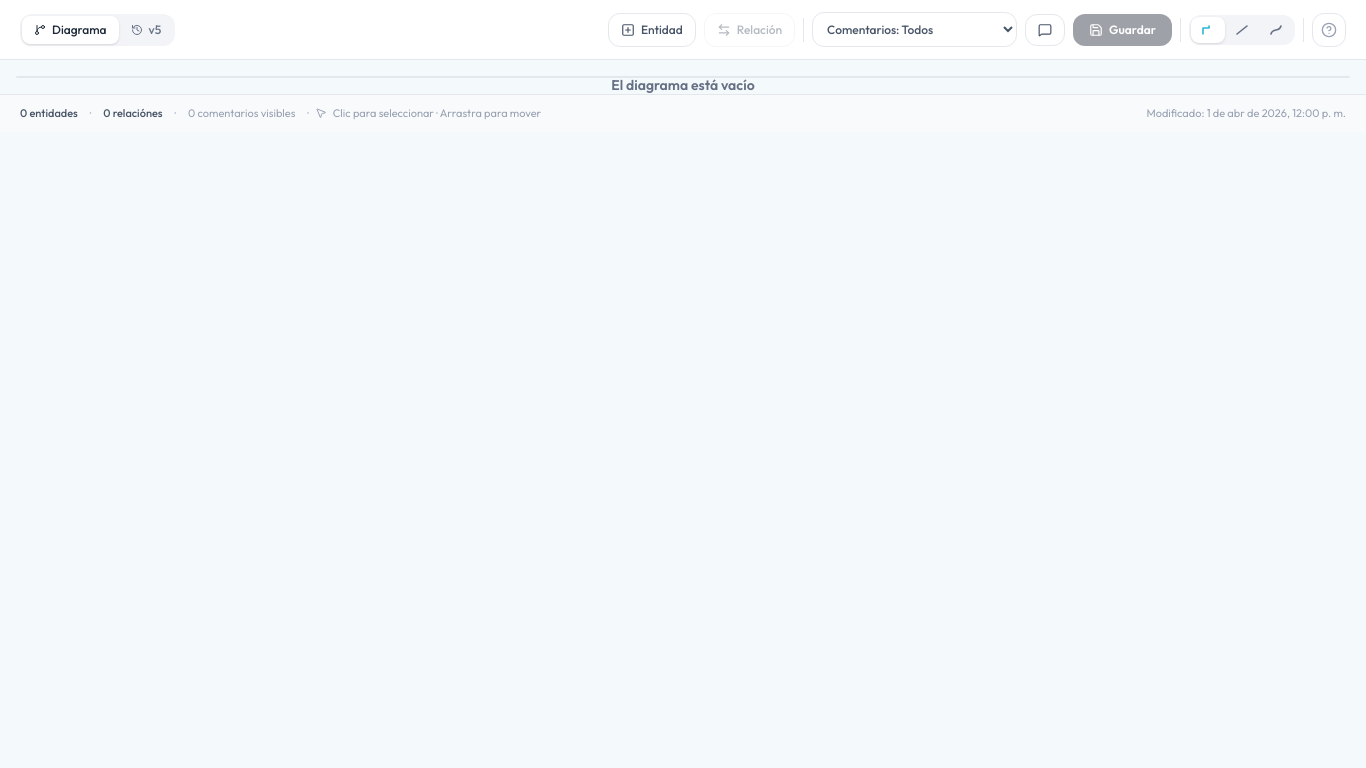
Test: Conceptual editor flow › shows feedback modal when preview endpoint returns 404
Click the button "v5". click: (146, 30)
box: x1=118 y1=16 x2=173 y2=44
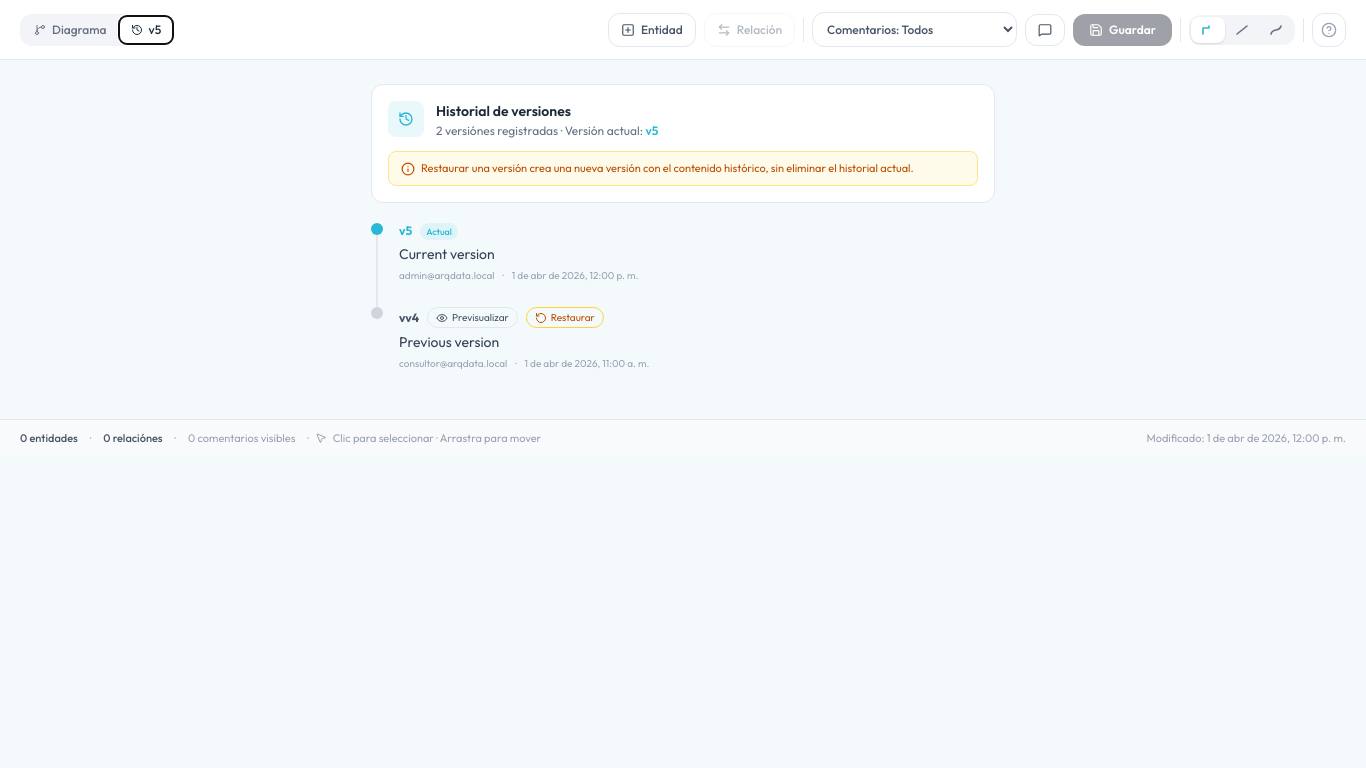
Click the button "Previsualizar". click: (472, 318)
box: x1=427 y1=307 x2=518 y2=328
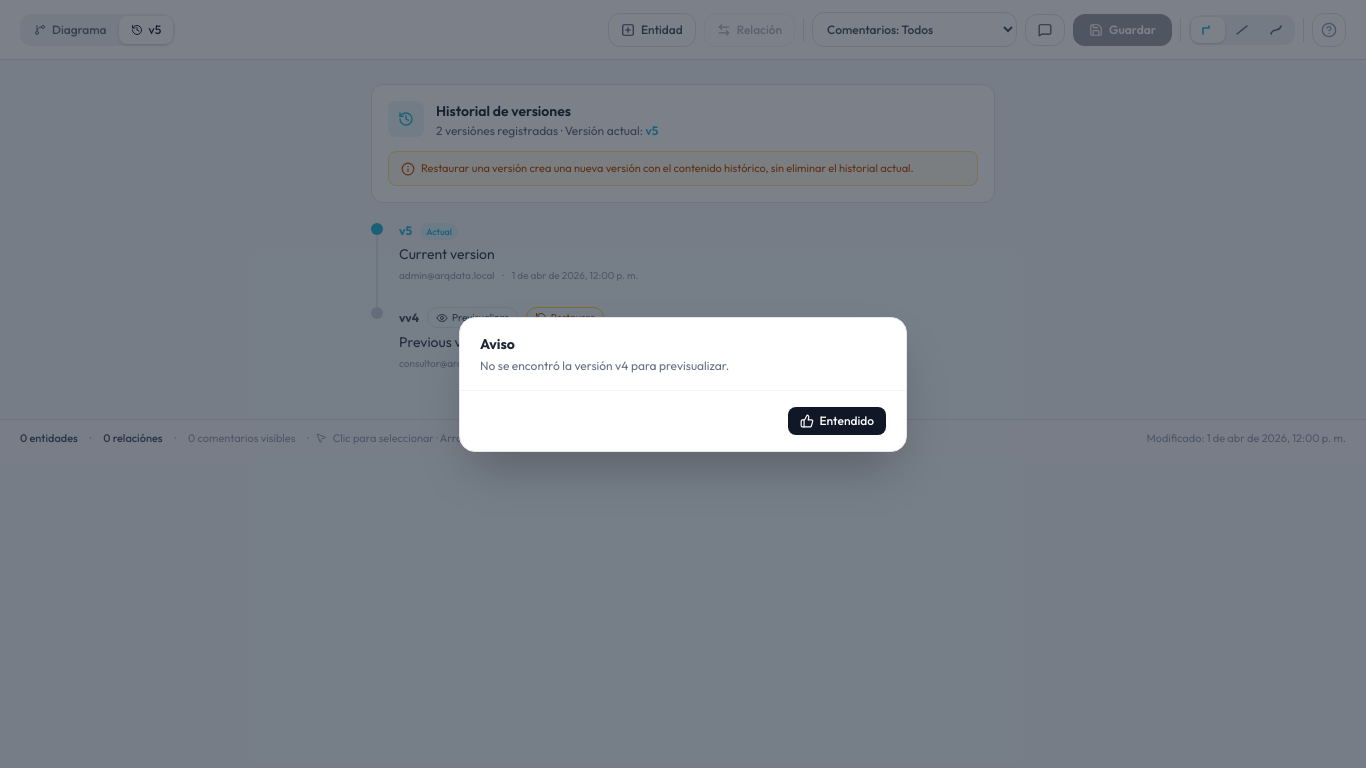
Expected: the text "No se encontró la versión v4 para previsualizar." is shown, x1=480 y1=358 x2=729 y2=372
Click the button "Entendido". click: (837, 420)
box: x1=788 y1=406 x2=886 y2=434
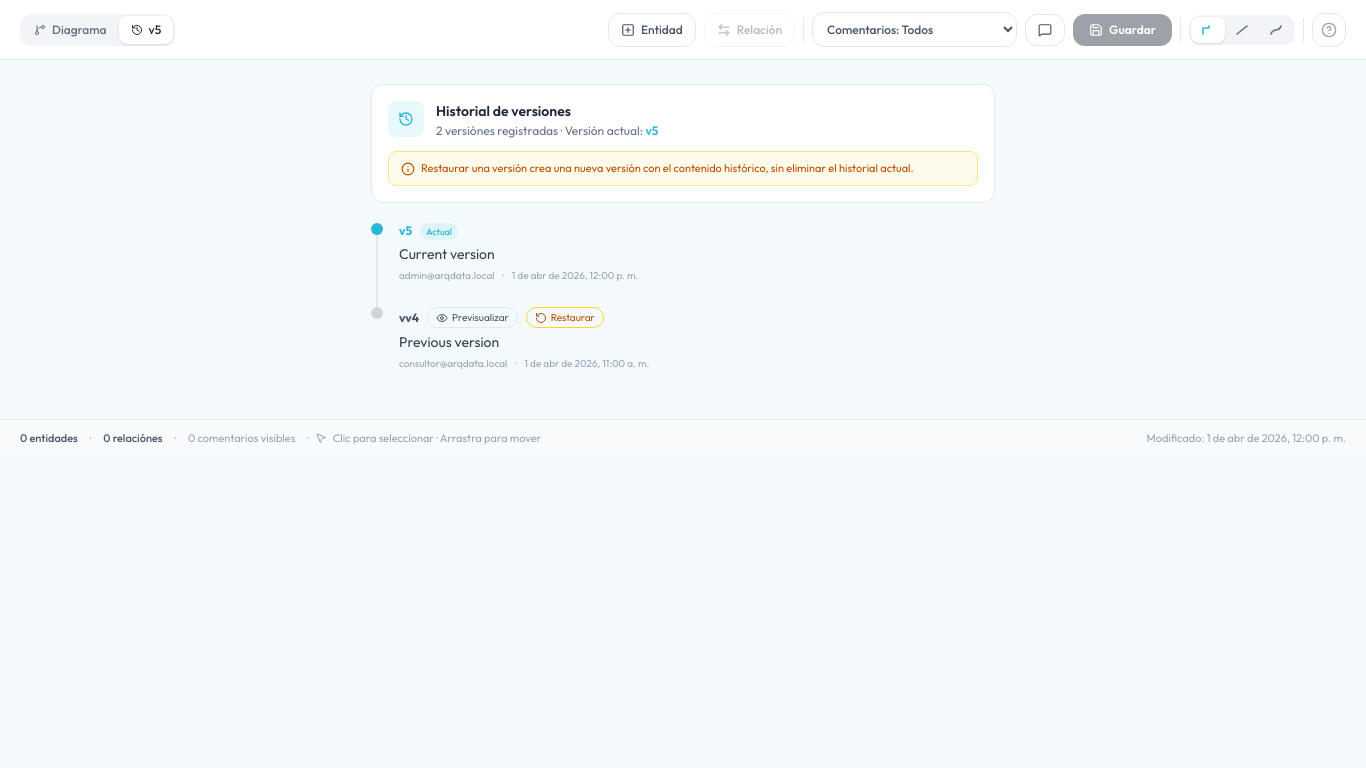
Expected: the text "No se encontr" is gone
